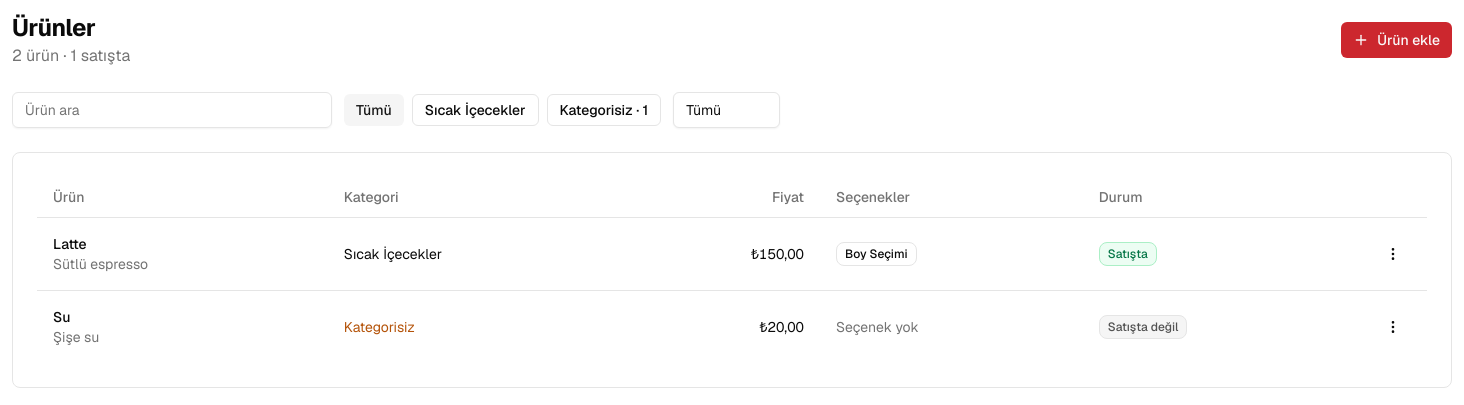
ProductsPage › narrows the list via the search box
Expected: the link "Latte" is shown, [53,234,86,252]
In the field with placeholder "Ürün ara": (172, 110) [12,92,332,128], type "latte"
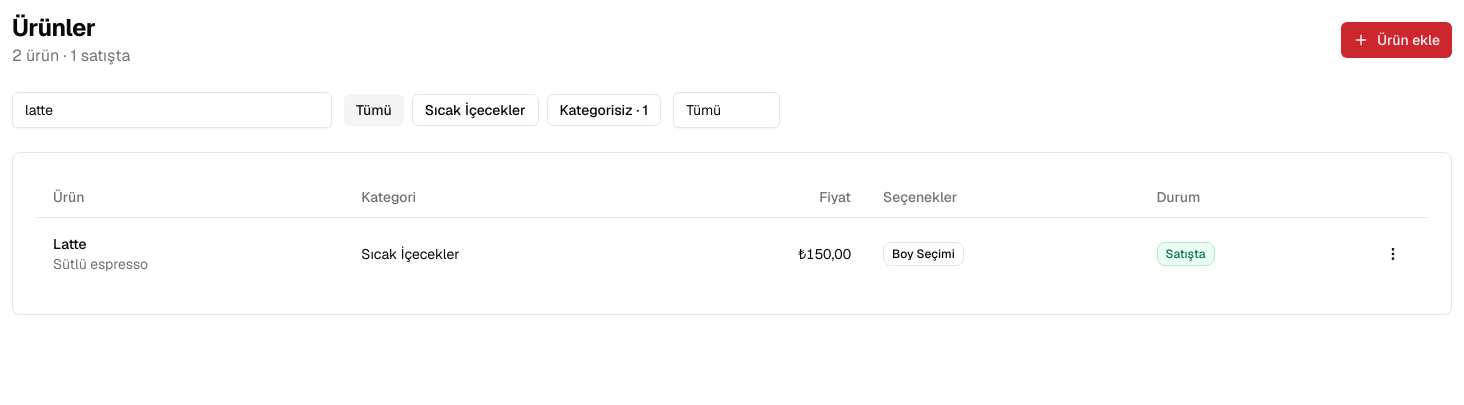
Expected: the link "Latte" is shown, [53,234,86,252]
Result: the link "Su" is gone
